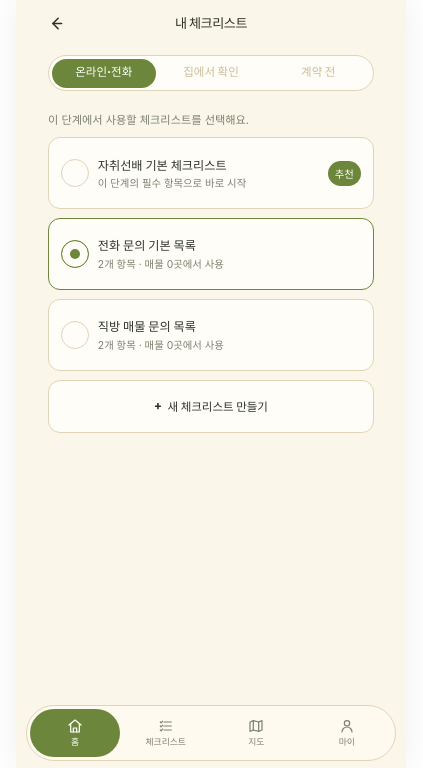
Test: 매물 체크리스트 연결과 자동 저장 › 적용된 체크리스트에서 변경을 누르면 현재 연결을 유지한 채 교체 목록을 보여준다
Expected: the checkbox labelled "전화 문의 기본 목록 2개 항목 · 매물 0곳에서 사용" is checked, [61, 240, 89, 268]
Click the checkbox labelled "직방 매물 문의 목록 2개 항목 · 매물 0곳에서 사용" at (75, 335), box [61, 321, 89, 349]
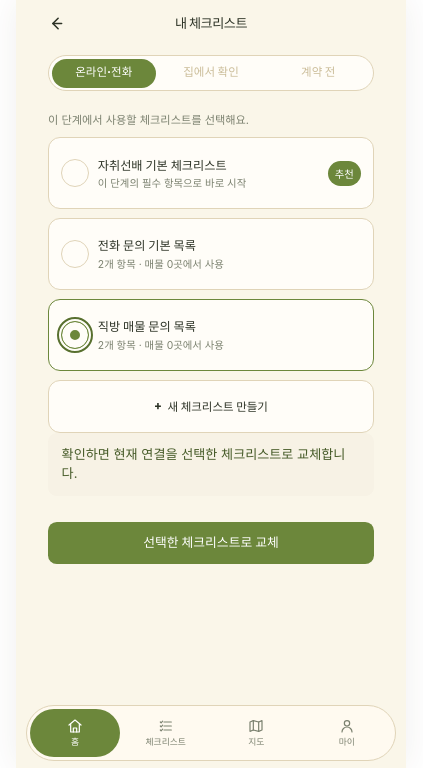
Now the button "선택한 체크리스트로 교체" is enabled, box [48, 522, 374, 564]
